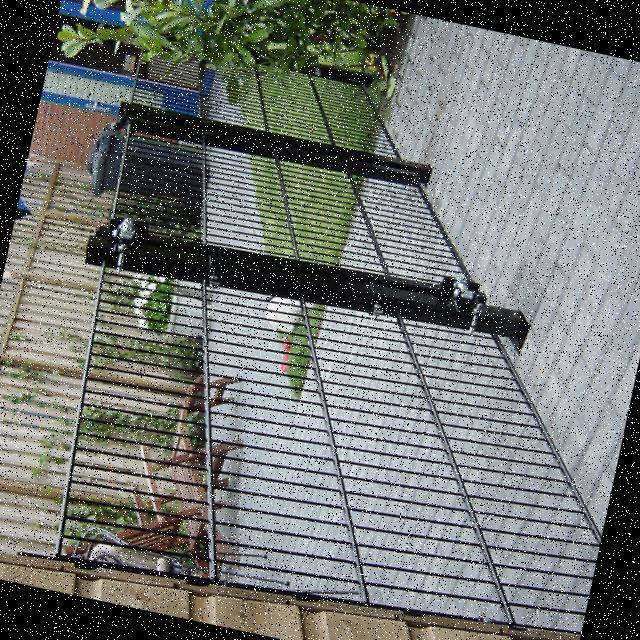fence line: (46, 217, 639, 639), (88, 27, 549, 323)
